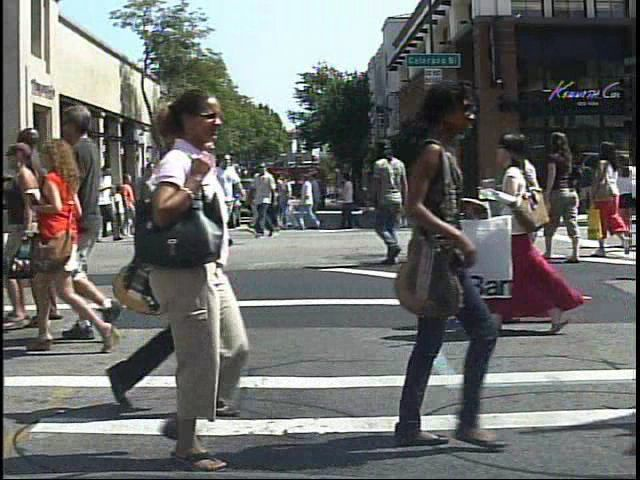person: (337, 77, 528, 460), (99, 83, 276, 476), (22, 125, 121, 352), (490, 126, 577, 348), (50, 100, 124, 349), (417, 138, 473, 270), (520, 130, 554, 345), (543, 125, 591, 262), (588, 135, 628, 261), (382, 134, 401, 275), (142, 159, 173, 245), (159, 158, 191, 240), (84, 162, 114, 248), (216, 149, 236, 250), (390, 163, 417, 235), (68, 181, 94, 243), (618, 146, 639, 214), (81, 183, 101, 226)
